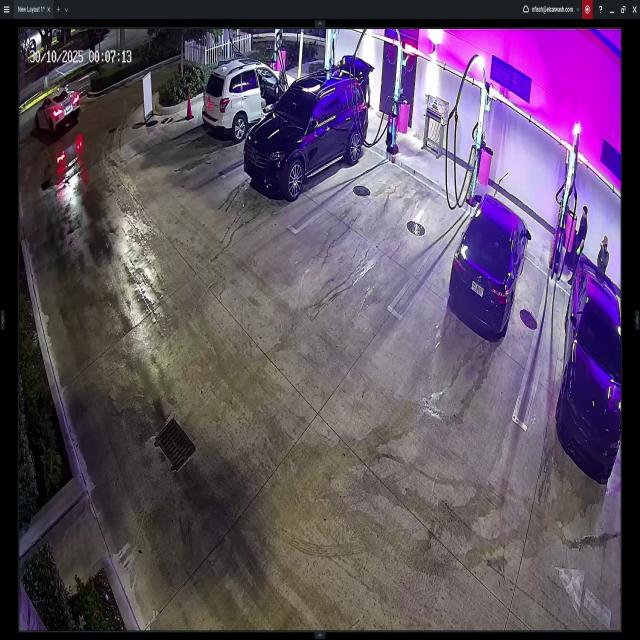Car: (247, 53, 372, 198), (557, 252, 622, 478), (447, 195, 532, 335), (204, 60, 296, 140), (33, 89, 83, 128)
